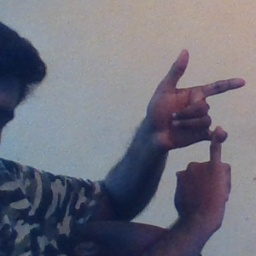S: (133, 43, 250, 219)
